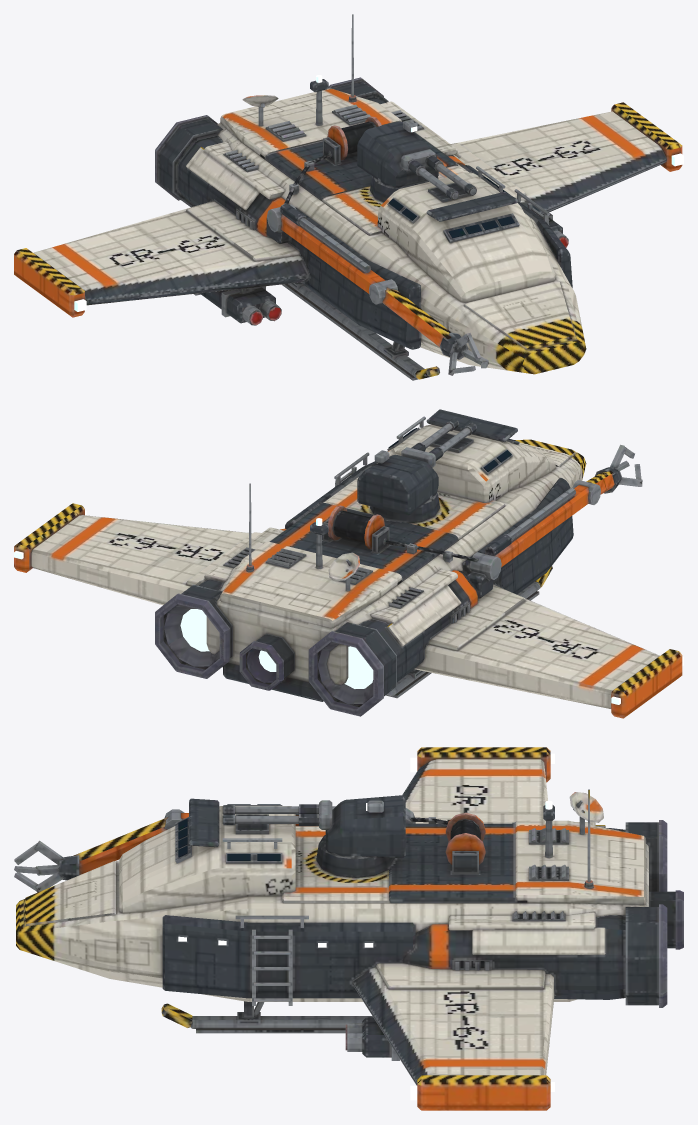
The model's file is ship.glb.
3 views of the same model, one above another, from view 1: azimuth 30°, elevation 25°; view 2: azimuth 150°, elevation 25°; view 3: azimuth 270°, elevation 25° (orthographic). The views are drawn at different scales.
Visible parts, largest first — view 1: SalvageTug; view 2: SalvageTug; view 3: SalvageTug.
Boxes of the visible parts, x1,y1,x2,y2 form: SalvageTug: (14,14,683,380); SalvageTug: (14,409,683,718); SalvageTug: (14,747,683,1110).
Size of the model in its own units: 2.39 by 0.785 by 2.01.
2 materials, 1 textured.
